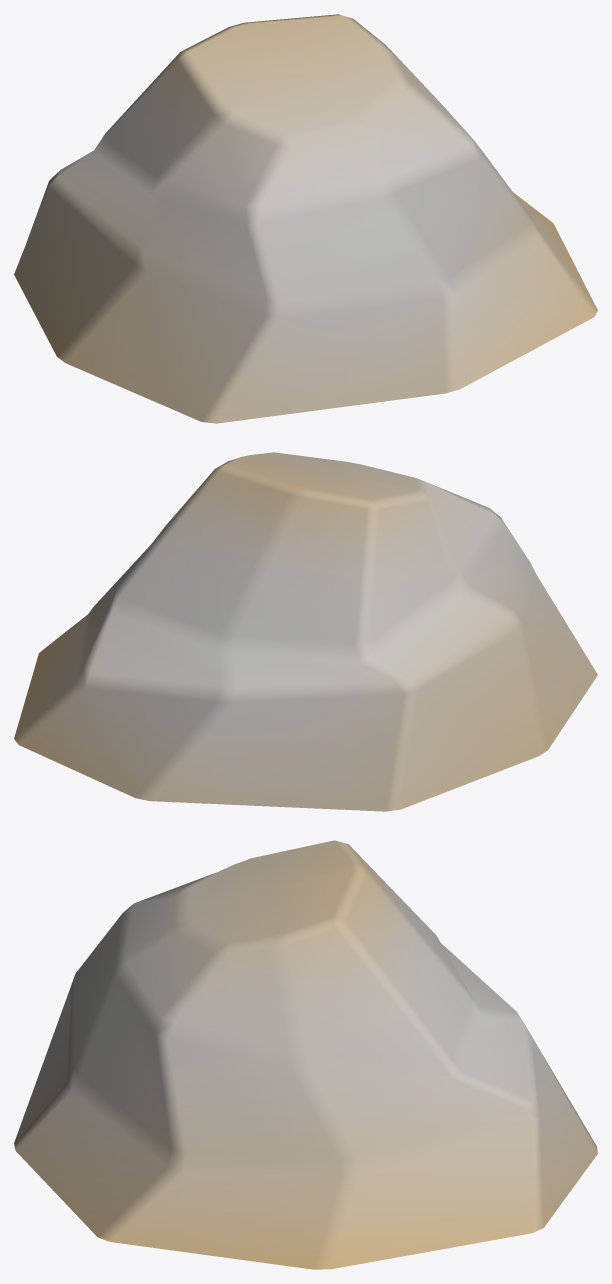
The model's file is stone_smallA__v2.fbx.
The picture shows the model from 3 angles, top to bottom: view 1: azimuth 30°, elevation 25°; view 2: azimuth 150°, elevation 25°; view 3: azimuth 270°, elevation 25°; orthographic projection. The views are drawn at different scales.
Visible parts, largest first — view 1: stone_smallA; view 2: stone_smallA; view 3: stone_smallA.
Part boxes in pixels (bbox=[...]): stone_smallA: bbox=[14, 14, 597, 423]; stone_smallA: bbox=[14, 452, 597, 811]; stone_smallA: bbox=[14, 840, 597, 1269].
Bounding box in the file's own units: 8.04 × 3.84 × 7.86.
